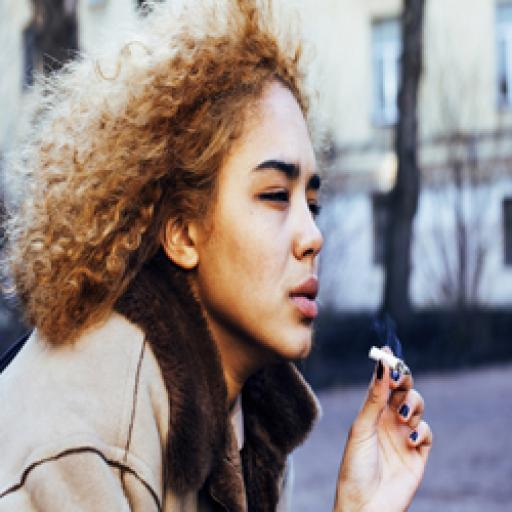terdeteksi pegang rokok: (332, 320, 446, 486)
